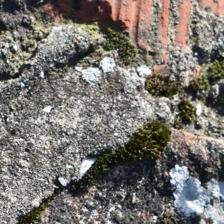Crack: (9, 31, 176, 82), (86, 75, 187, 139)
